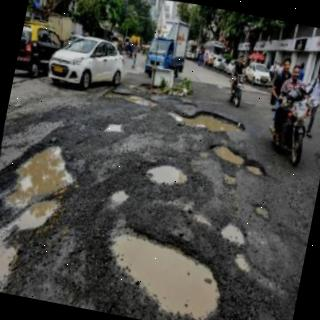pothole: (110, 231, 220, 319), (0, 146, 71, 279), (208, 144, 266, 175), (167, 110, 246, 132), (145, 163, 189, 187), (220, 222, 247, 247), (234, 252, 253, 273), (108, 190, 128, 208), (103, 123, 122, 133)
